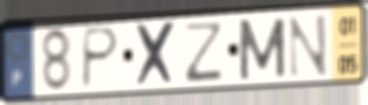8: (39, 26, 75, 94)
M: (235, 15, 288, 83)
N: (286, 11, 331, 81)
P: (79, 24, 122, 91)
X: (134, 19, 178, 90)
Z: (182, 19, 226, 85)
